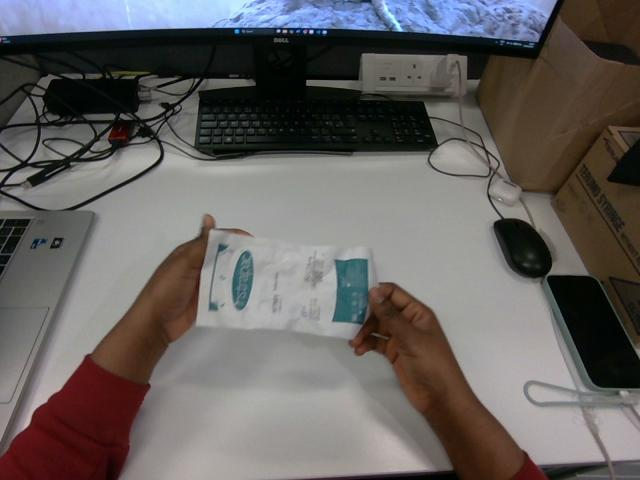gallipot: (197, 230, 376, 338)
